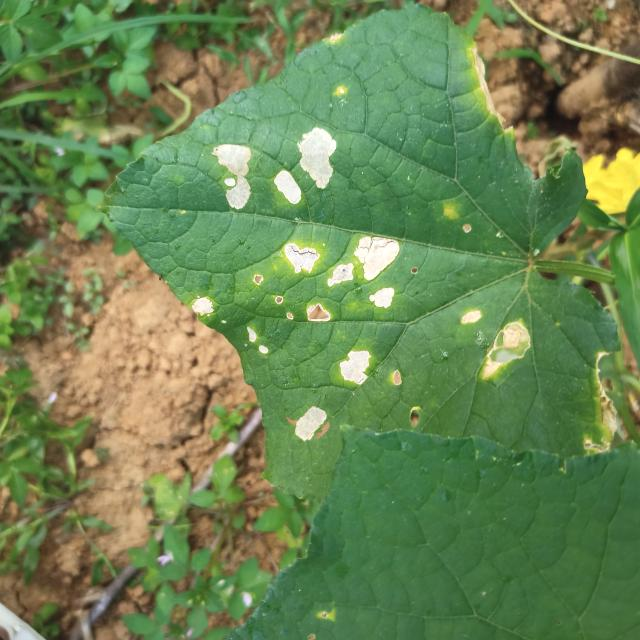disease_cucumber: (274, 235, 402, 324), (459, 307, 533, 380), (272, 126, 336, 205), (211, 142, 255, 212), (291, 404, 329, 443), (339, 347, 372, 386), (242, 323, 270, 357), (190, 294, 215, 318)
